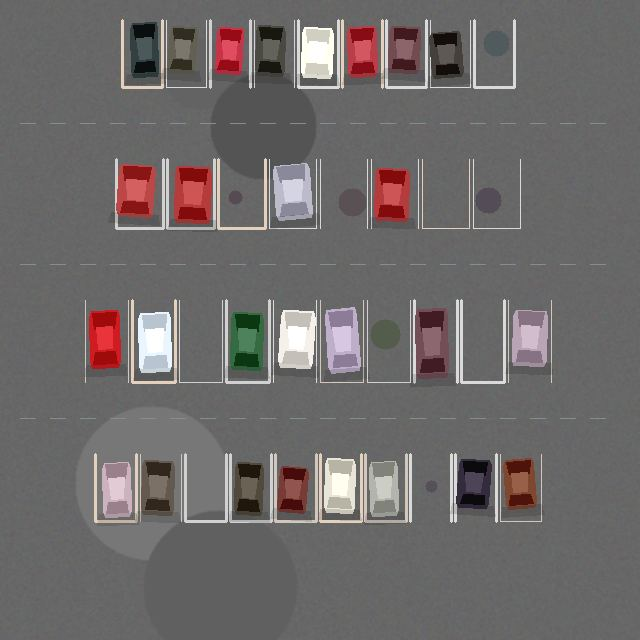space-empty: (179, 300, 222, 382), (367, 300, 410, 382), (461, 300, 504, 382), (218, 159, 265, 228), (320, 159, 367, 228), (422, 159, 469, 228), (473, 159, 520, 228), (185, 454, 226, 521), (410, 454, 451, 521), (474, 20, 514, 87)
space-occupied: (85, 300, 128, 382), (132, 300, 175, 382), (226, 300, 269, 382), (273, 300, 316, 382), (320, 300, 363, 382), (414, 300, 457, 382), (508, 300, 551, 382), (116, 159, 163, 228), (167, 159, 214, 228), (269, 159, 316, 228), (371, 159, 418, 228), (95, 454, 136, 521), (140, 454, 181, 521), (230, 454, 271, 521), (275, 454, 316, 521), (320, 454, 361, 521), (365, 454, 406, 521), (455, 454, 496, 521), (500, 454, 541, 521), (122, 20, 162, 87), (166, 20, 206, 87), (210, 20, 250, 87), (254, 20, 294, 87), (298, 20, 338, 87), (342, 20, 382, 87), (386, 20, 426, 87), (430, 20, 470, 87)
